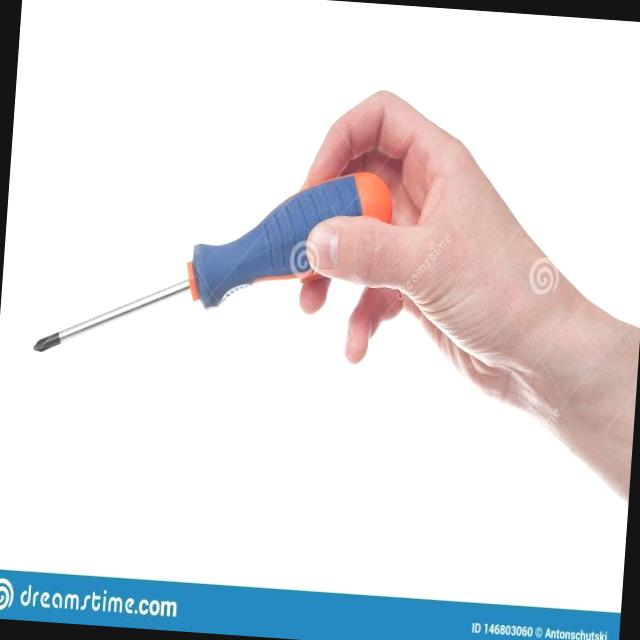screwdriver: (34, 171, 392, 350)
